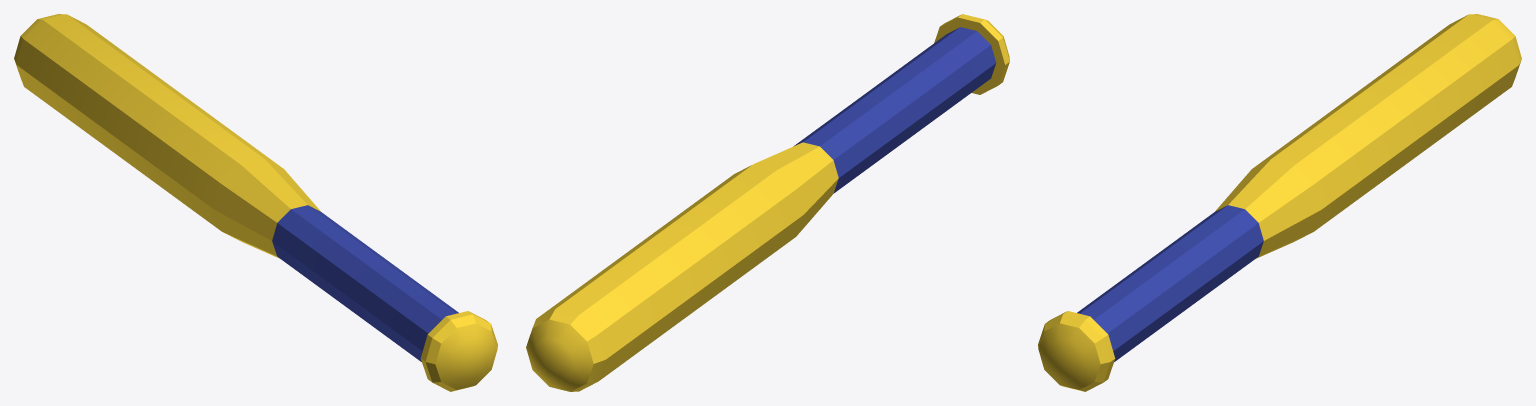
Rendered from Stick.fbx.
3 views of the same model, side by side, from view 1: azimuth 30°, elevation 25°; view 2: azimuth 150°, elevation 25°; view 3: azimuth 330°, elevation 25° (orthographic).
Visible parts, largest first — view 1: Stick; view 2: Stick; view 3: Stick.
Boxes of the visible parts, <box> form: Stick: <box>14,14,497,391</box>; Stick: <box>526,14,1009,391</box>; Stick: <box>1038,14,1521,391</box>.
Size of the model in its own units: 7.99 by 7.6 by 77.68.
Materials: 1 (1 with a texture image).
